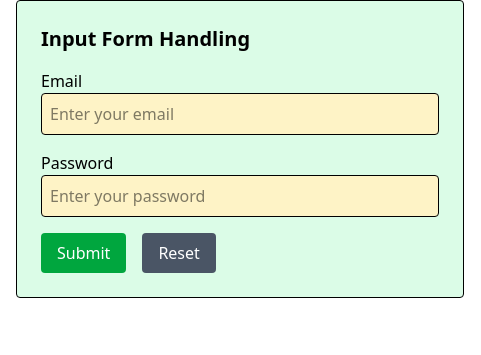
Test: InputFormHandling › shows submitted result after submit
The width and height of the screenshot is (481, 355).
Type "test@example.com" into the field labelled "Email" at (240, 114), box [41,93,439,135]
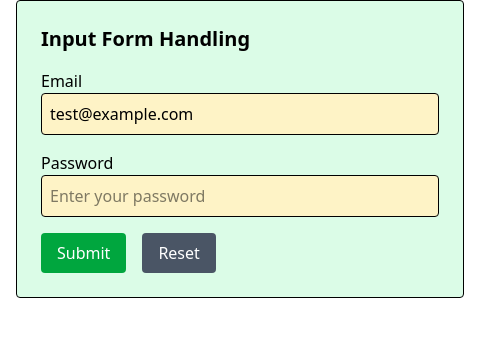
Type "123456" into the password field labelled "Password" at (240, 196), box [41,175,439,217]
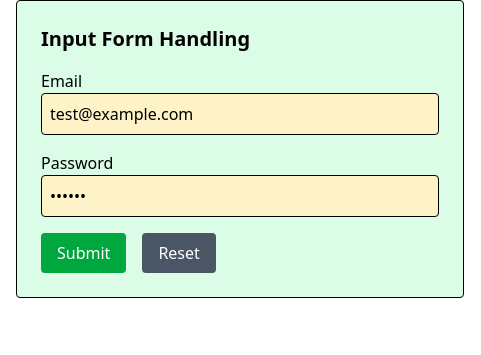
Click the button "Submit" at (84, 253), box [41,233,126,273]
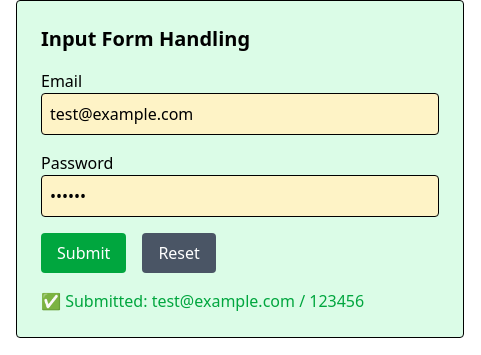
Result: the text "✅ Submitted: test@example.com / 123456" is shown at [41,290,364,312]
